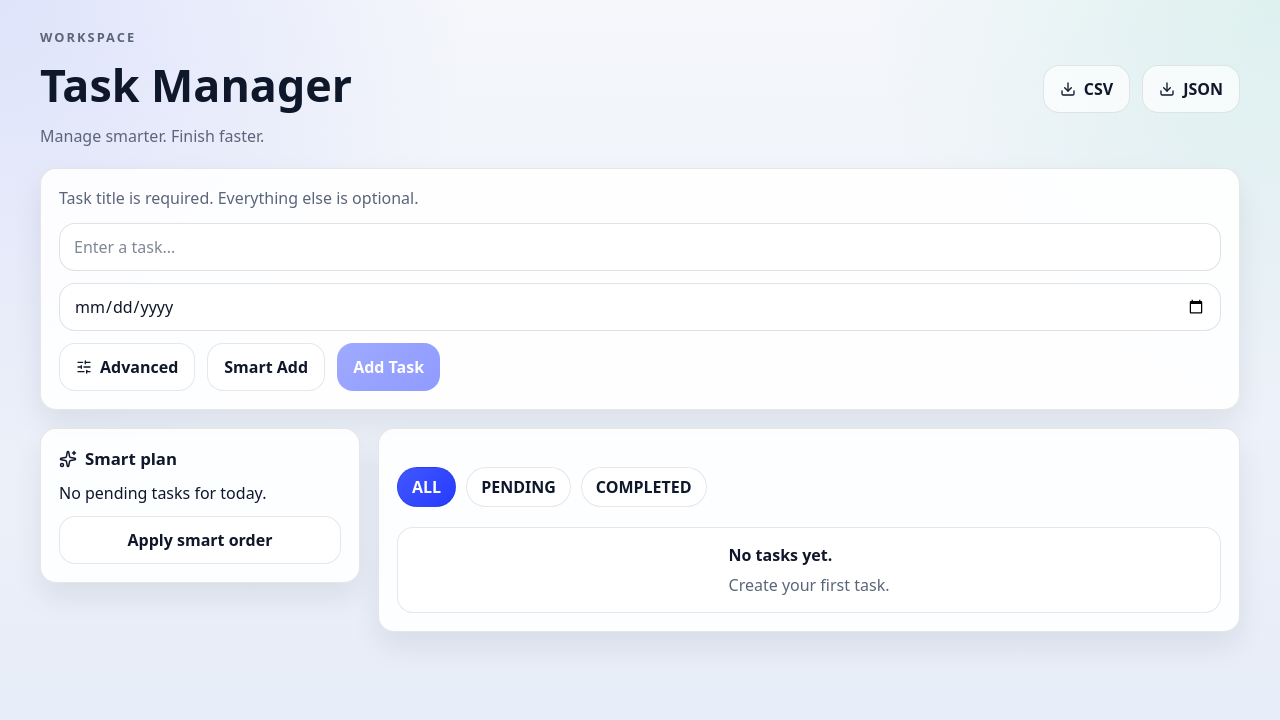
Scenario: Task Feature Integration › adds new task and renders it
In the field with placeholder "Enter a task...": (640, 247) [59,223,1221,271], type "New Add new Task Task"
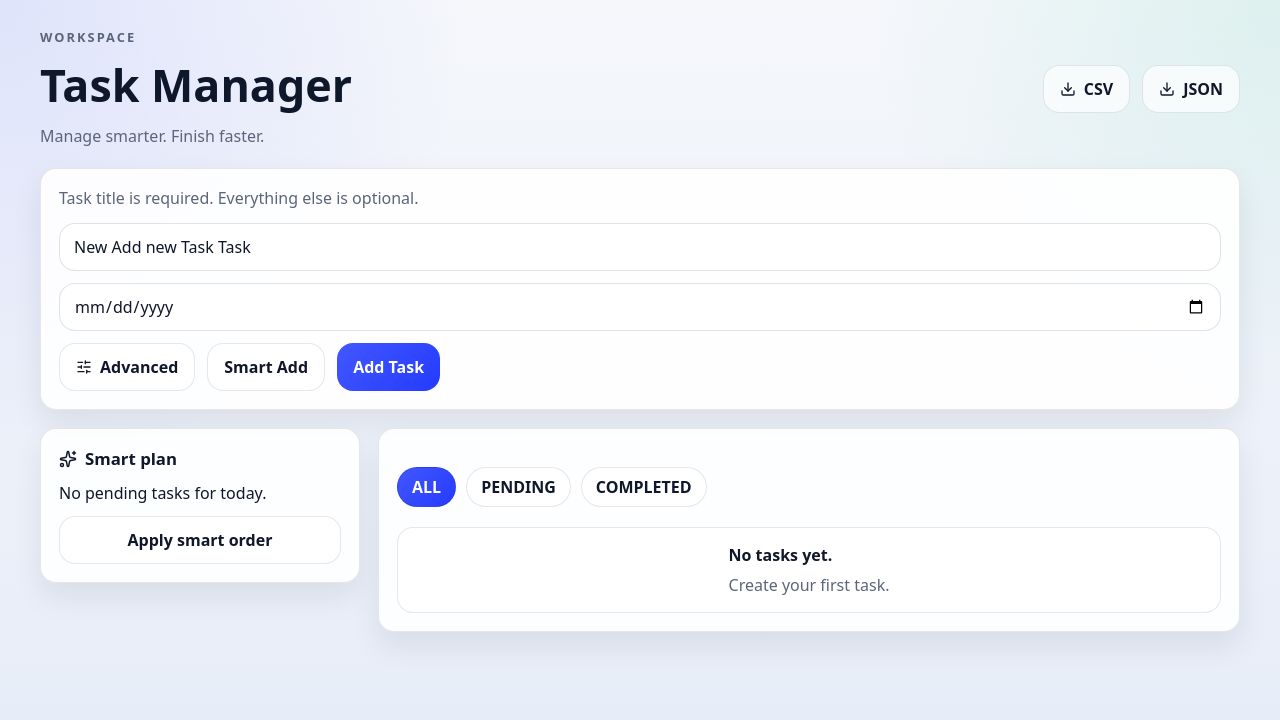
Click the button "Add Task": (389, 367) [337,343,440,391]
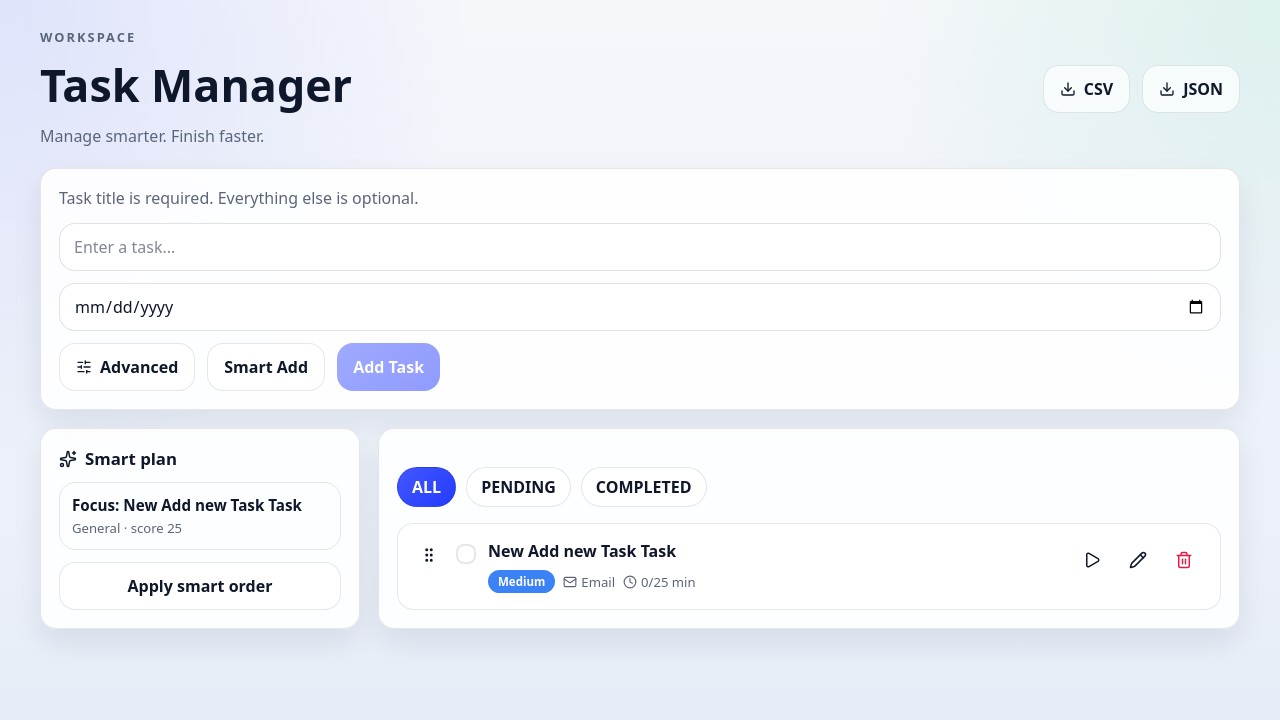
Check: the text "New Add new Task Task" is shown, box [488,540,696,562]
